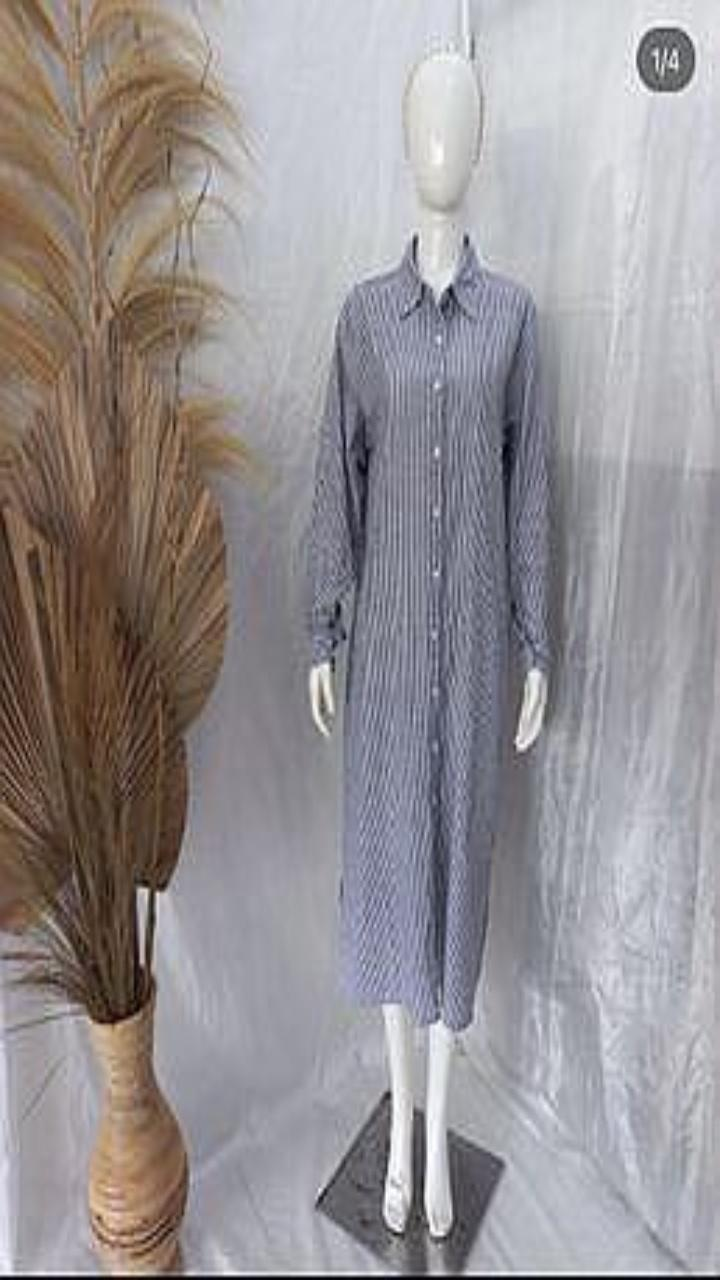Dresses: (309, 237, 547, 1029)
